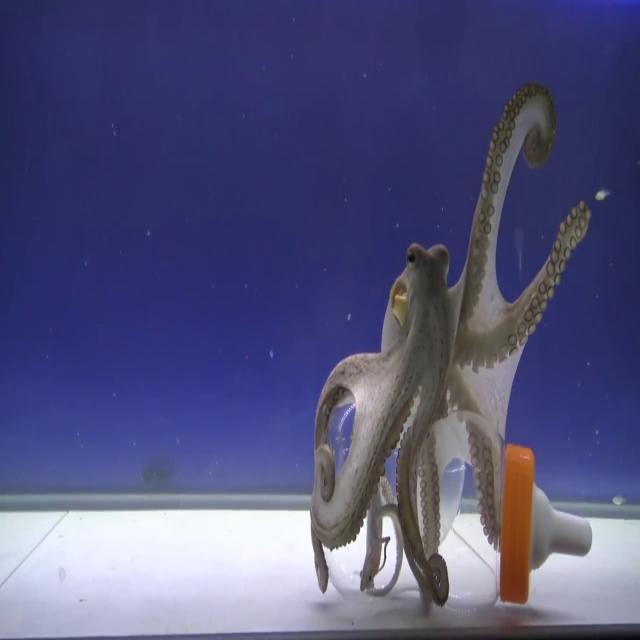octopus: (308, 74, 596, 604)
